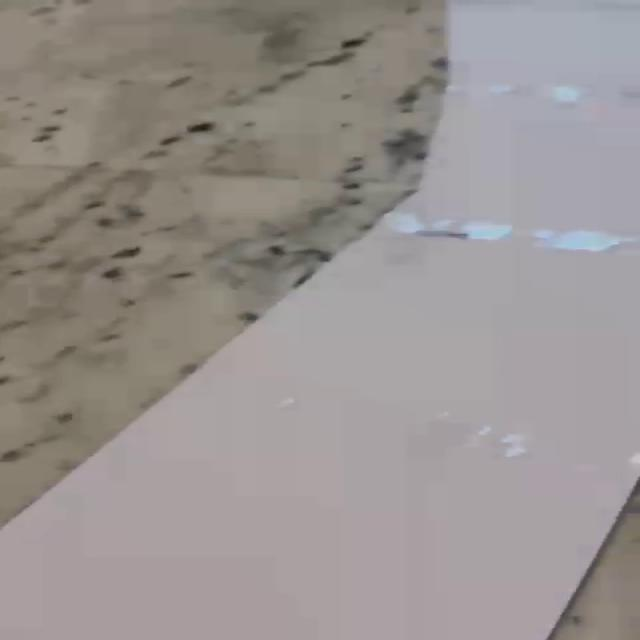road: (0, 0, 640, 640)
